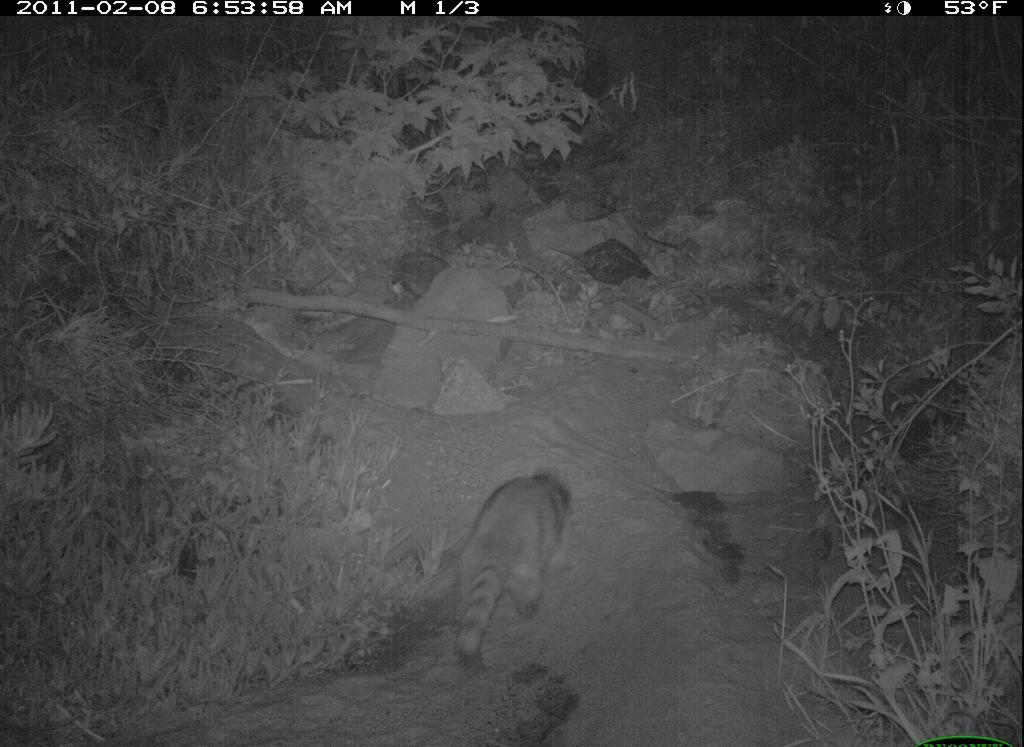raccoon: (446, 455, 578, 675)
